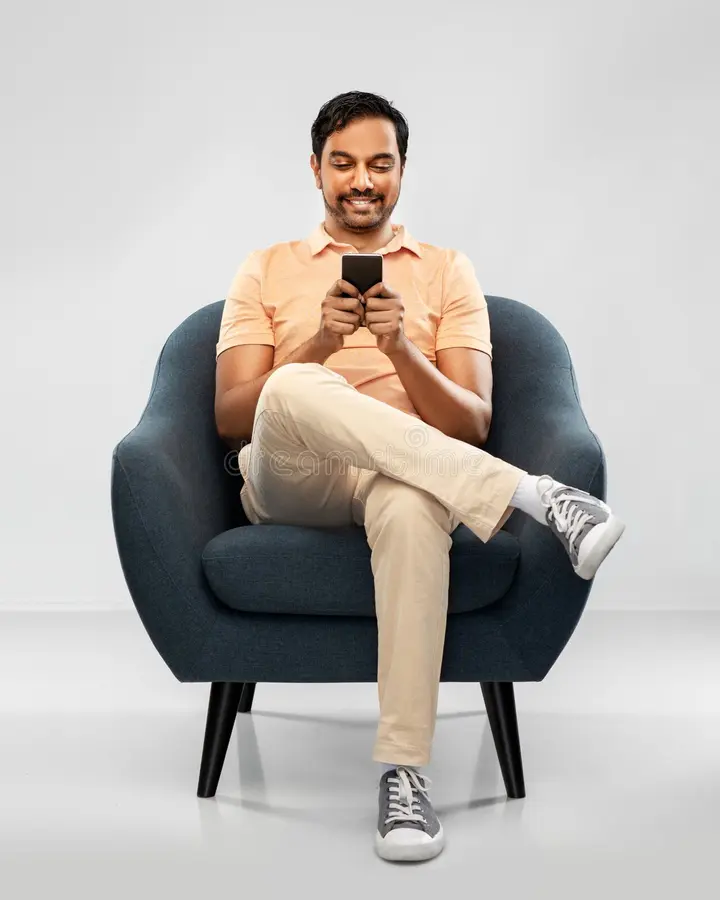distracted: (257, 80, 459, 367)
